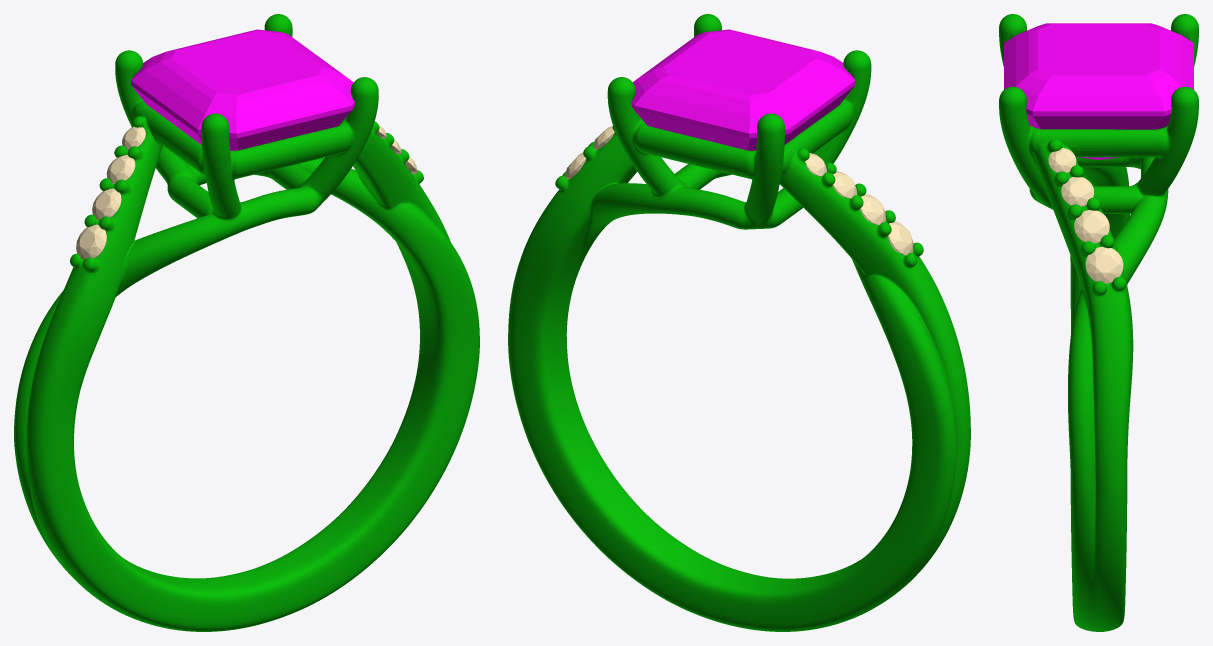
The model's file is BE1AS8PD08_AS_200ct_RENDER.glb.
3 views of the same model, side by side, from view 1: azimuth 30°, elevation 25°; view 2: azimuth 150°, elevation 25°; view 3: azimuth 270°, elevation 25° (orthographic).
Visible parts, largest first — view 1: Metal 01, CS_Diamond_Asscher, Diamond_Round_Gem_SH.003, Diamond_Round_Gem_SH.002; view 2: Metal 01, CS_Diamond_Asscher, Diamond_Round_Gem_SH.003; view 3: Metal 01, CS_Diamond_Asscher, Diamond_Round_Gem_SH.004, Diamond_Round_Gem_SH.005, Diamond_Round_Gem_SH.006, Diamond_Round_Gem_SH.007.
Part boxes in pixels (x1,y1,x2,y2): Metal 01: (14,14,479,631); CS_Diamond_Asscher: (131,29,354,150); Diamond_Round_Gem_SH.003: (76,224,106,259); Diamond_Round_Gem_SH.002: (92,188,121,220); Metal 01: (508,14,970,631); CS_Diamond_Asscher: (631,29,855,150); Diamond_Round_Gem_SH.003: (887,221,913,255); Metal 01: (999,14,1198,631); CS_Diamond_Asscher: (1004,23,1193,159); Diamond_Round_Gem_SH.004: (1085,246,1123,283); Diamond_Round_Gem_SH.005: (1074,210,1109,243); Diamond_Round_Gem_SH.006: (1061,177,1093,206); Diamond_Round_Gem_SH.007: (1048,148,1076,172).
Size of the model in its own units: 20.3 by 24.29 by 7.89.
